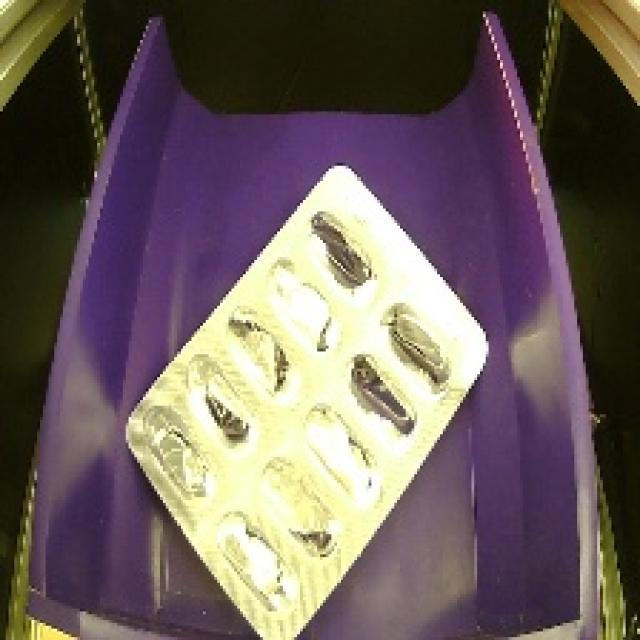med_plate: (106, 147, 510, 640)
